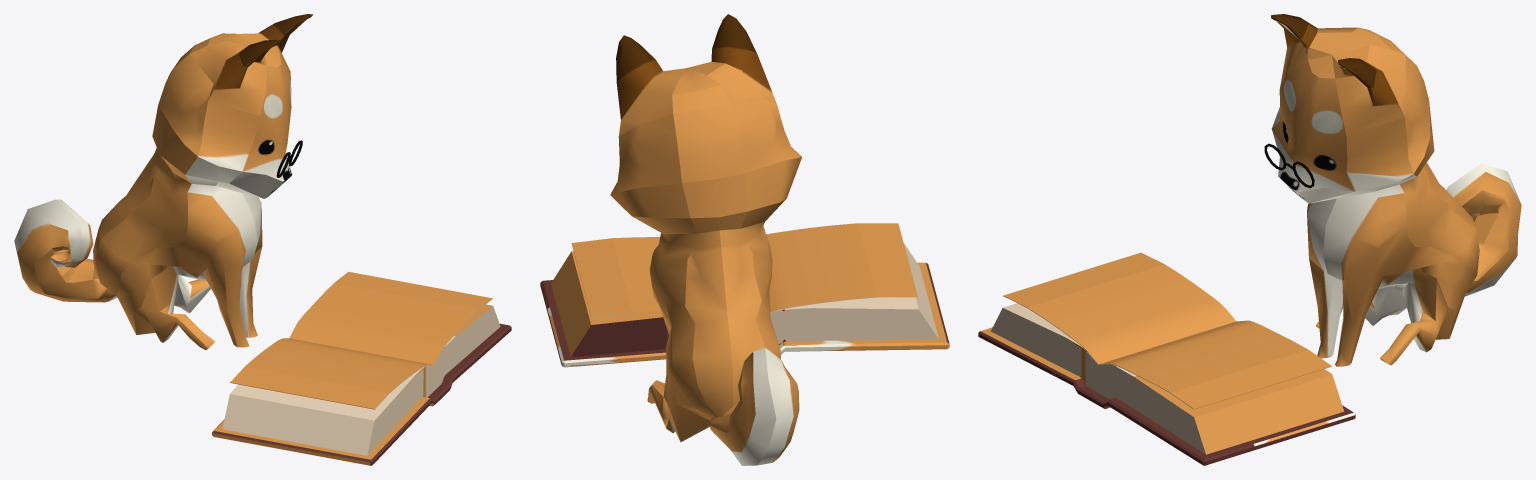
The model's file is book_frame5.obj.
3 renders of one model, left to right at view 1: azimuth 30°, elevation 25°; view 2: azimuth 150°, elevation 25°; view 3: azimuth 270°, elevation 25°, orthographic. The views are drawn at different scales.
Visible parts, largest first — view 1: StidyGlasses_Computer_Sitting:Sitting:newRigging:BodzL1, polySurface1; view 2: StidyGlasses_Computer_Sitting:Sitting:newRigging:BodzL1, polySurface1; view 3: StidyGlasses_Computer_Sitting:Sitting:newRigging:BodzL1, polySurface1.
Part boxes in pixels (box(x1,y1,x2,y2)): StidyGlasses_Computer_Sitting:Sitting:newRigging:BodzL1: box(14, 14, 312, 350); polySurface1: box(212, 271, 511, 465); StidyGlasses_Computer_Sitting:Sitting:newRigging:BodzL1: box(610, 14, 801, 465); polySurface1: box(540, 223, 949, 367); StidyGlasses_Computer_Sitting:Sitting:newRigging:BodzL1: box(1271, 14, 1521, 366); polySurface1: box(978, 252, 1355, 465).
Size of the model in its own units: 9.18 by 7.77 by 11.01.
4 materials, 4 textured.
